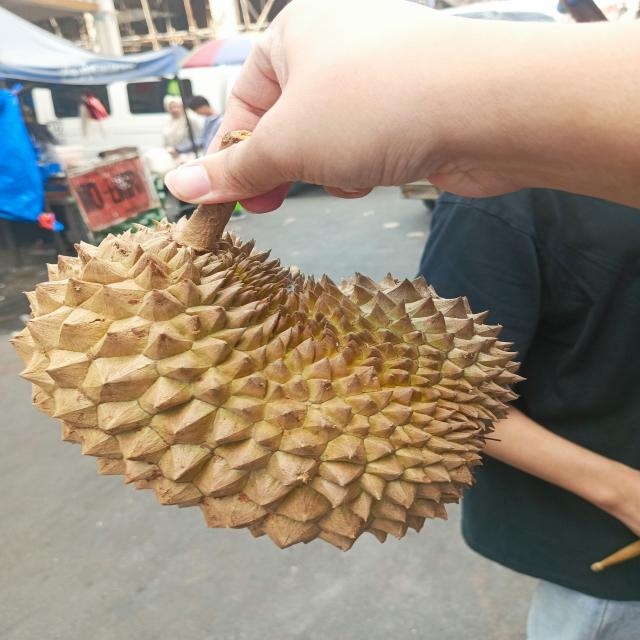mature: (9, 210, 524, 548)
